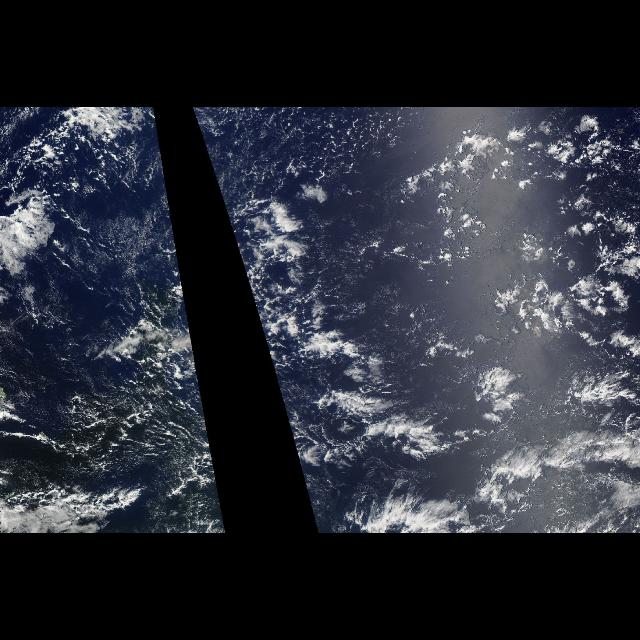Gravel: (194, 107, 638, 431)
